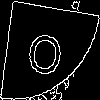O: (25, 24, 66, 77)
